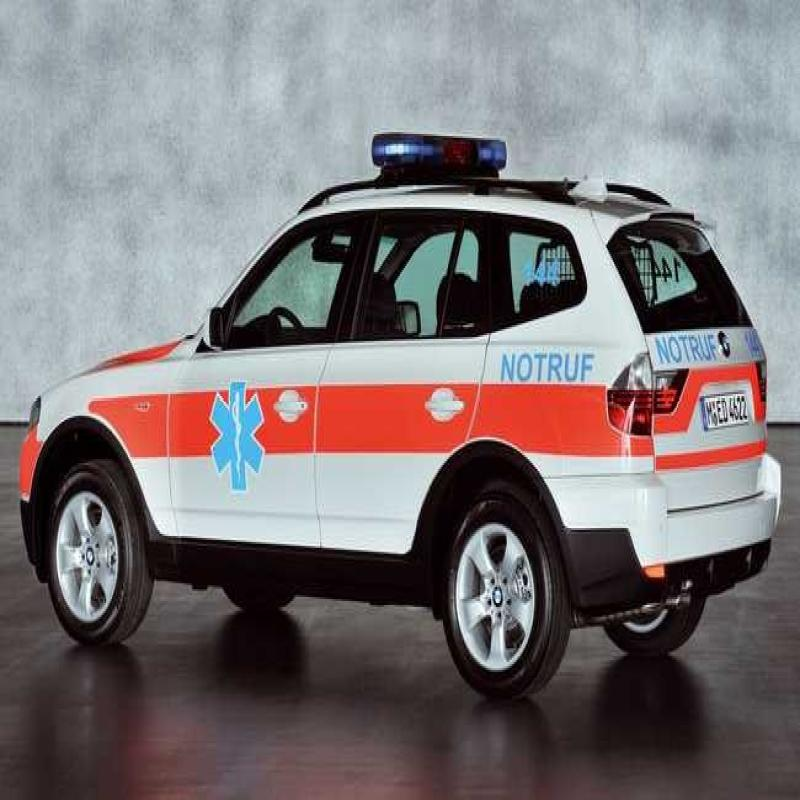AmbulanceSiren: (370, 109, 522, 190)
